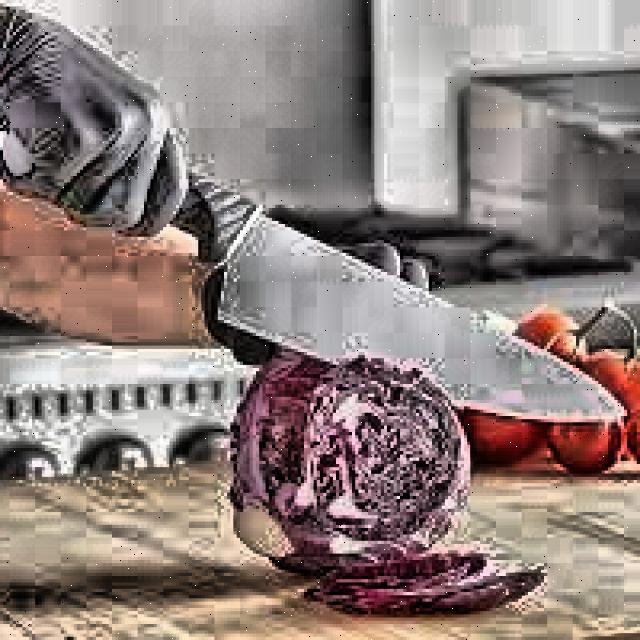knife: (5, 137, 632, 424)
